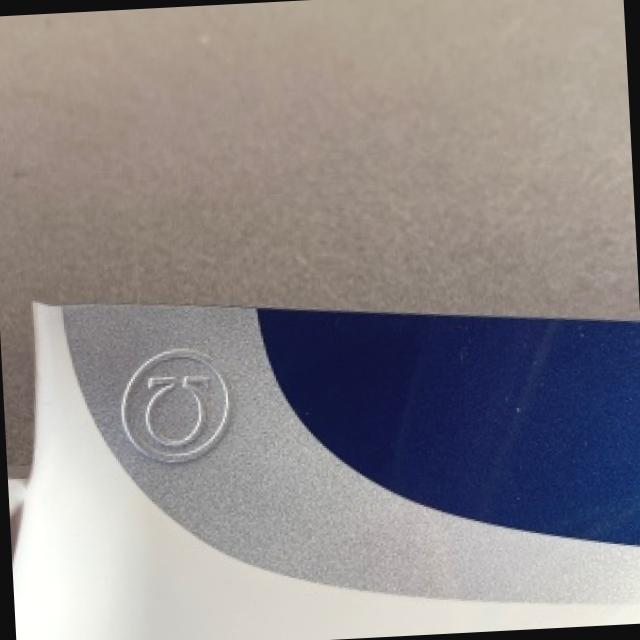healthy: (12, 303, 640, 640)
